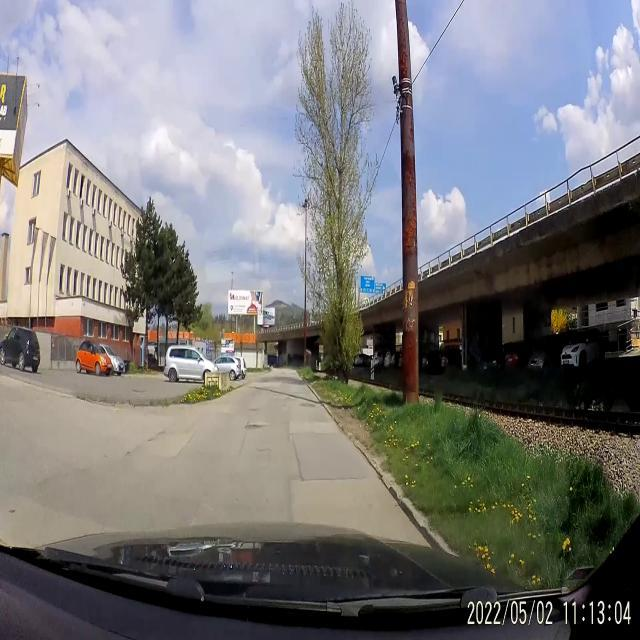Manhole: (300, 396, 318, 414)
Pothole: (142, 424, 170, 452), (238, 415, 272, 438), (242, 397, 262, 419), (119, 446, 137, 469)
